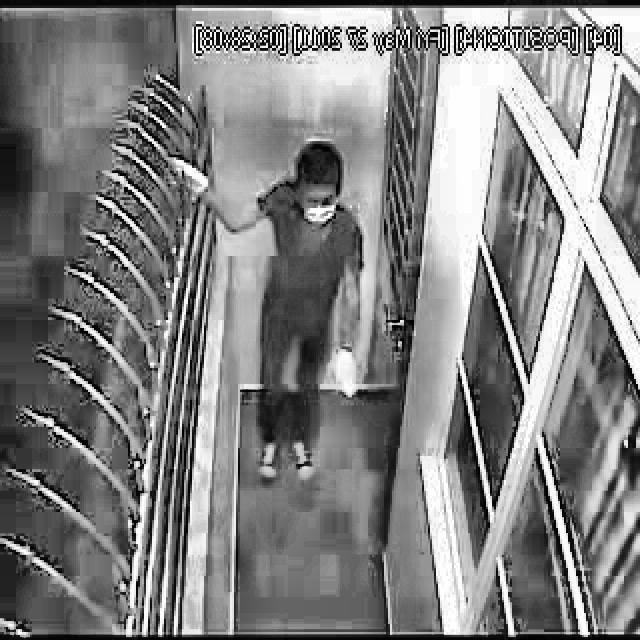burglary: (162, 142, 369, 486)
